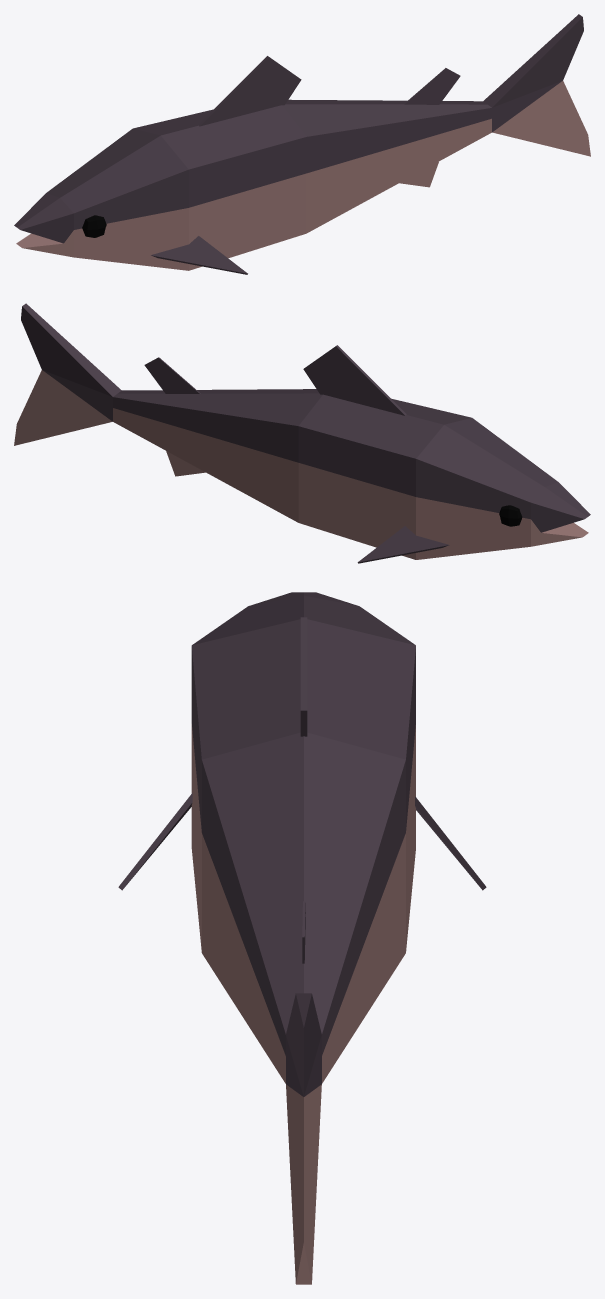
Rendered from salmon.fbx.
3 renders of one model, top to bottom at view 1: azimuth 30°, elevation 25°; view 2: azimuth 150°, elevation 25°; view 3: azimuth 270°, elevation 25°, orthographic. The views are drawn at different scales.
Parts seen in each view (by area): view 1: salmon; view 2: salmon; view 3: salmon.
Part boxes in pixels (bbox=[...]): salmon: bbox=[14, 14, 590, 274]; salmon: bbox=[14, 303, 590, 563]; salmon: bbox=[118, 592, 486, 1284].
Size of the model in its own units: 78.45 by 24.25 by 21.88.
1 material, 1 textured.
